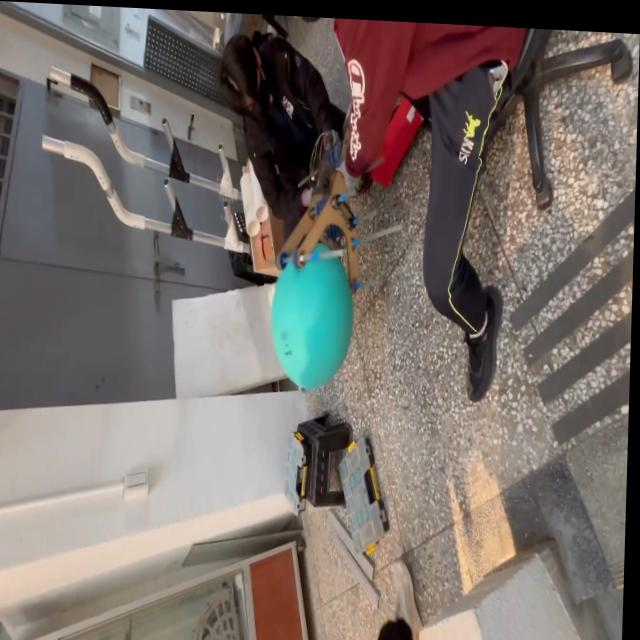ALGAE: (268, 241, 356, 394)
